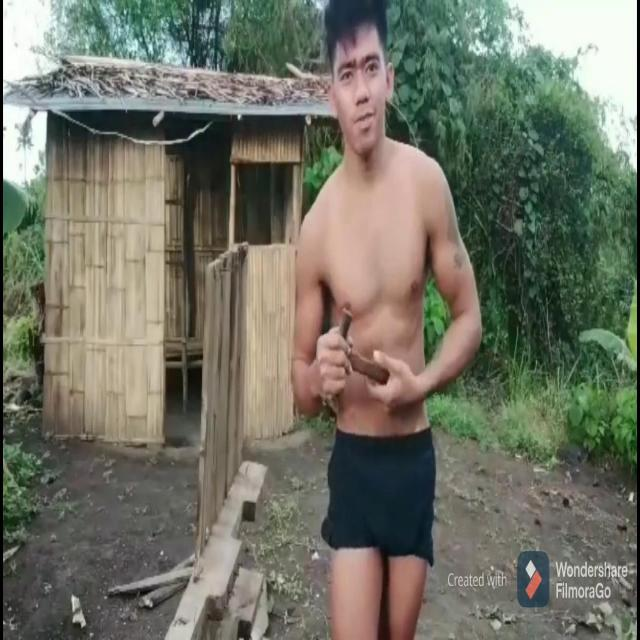hammer: (336, 308, 390, 386)
